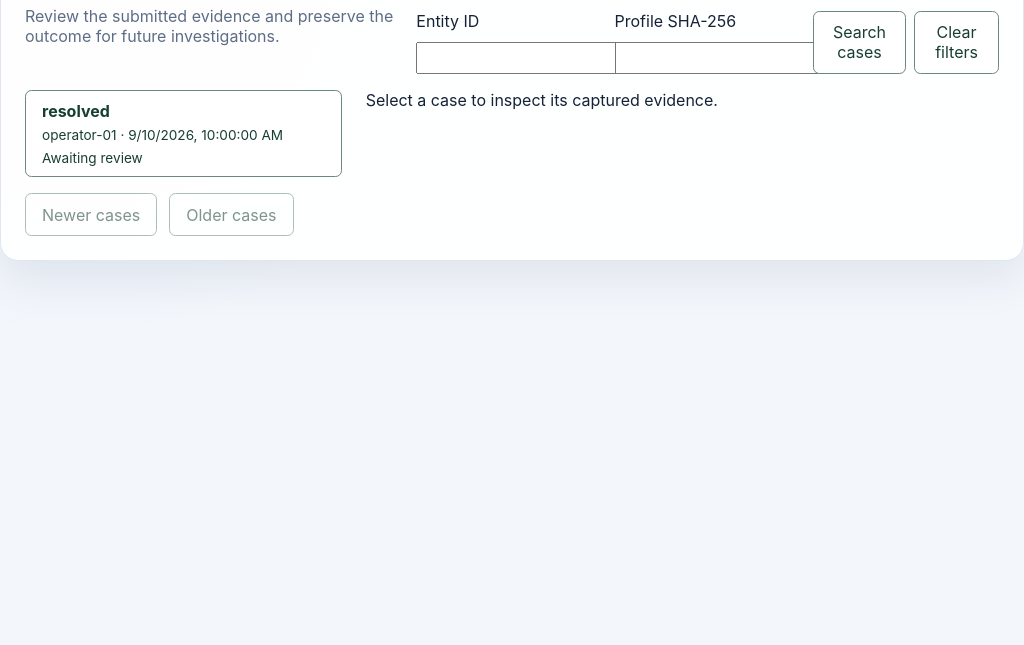
Test: lets an independent reviewer record a decision against the selected snapshot
This screenshot has width=1024, height=645.
Click the button "resolved" at (183, 133), box [25,90,342,177]
(page scrolled)
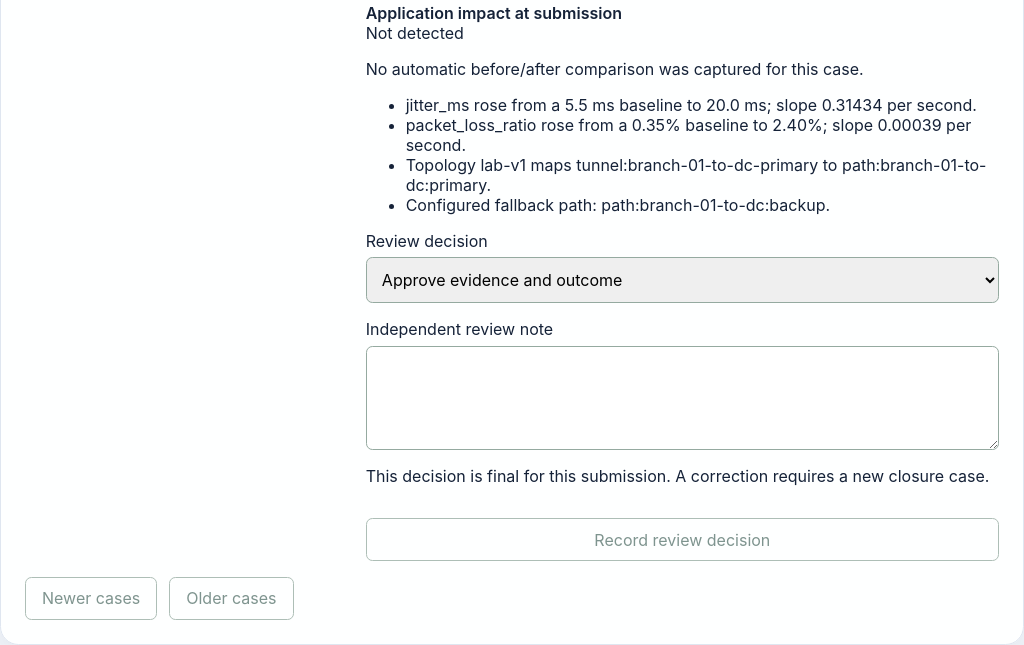
Type "Recovery evidence checked." into the text box labelled "Independent review note" at (682, 398), box [366,346,999,450]
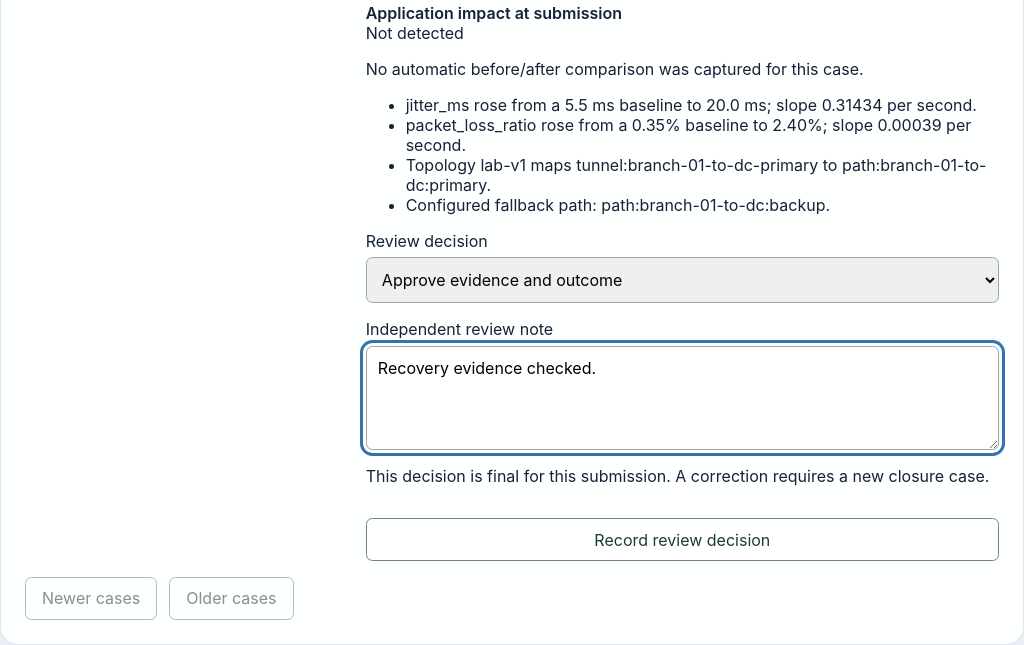
Click the button "Record review decision" at (682, 540), box [366,518,999,561]
(page scrolled)
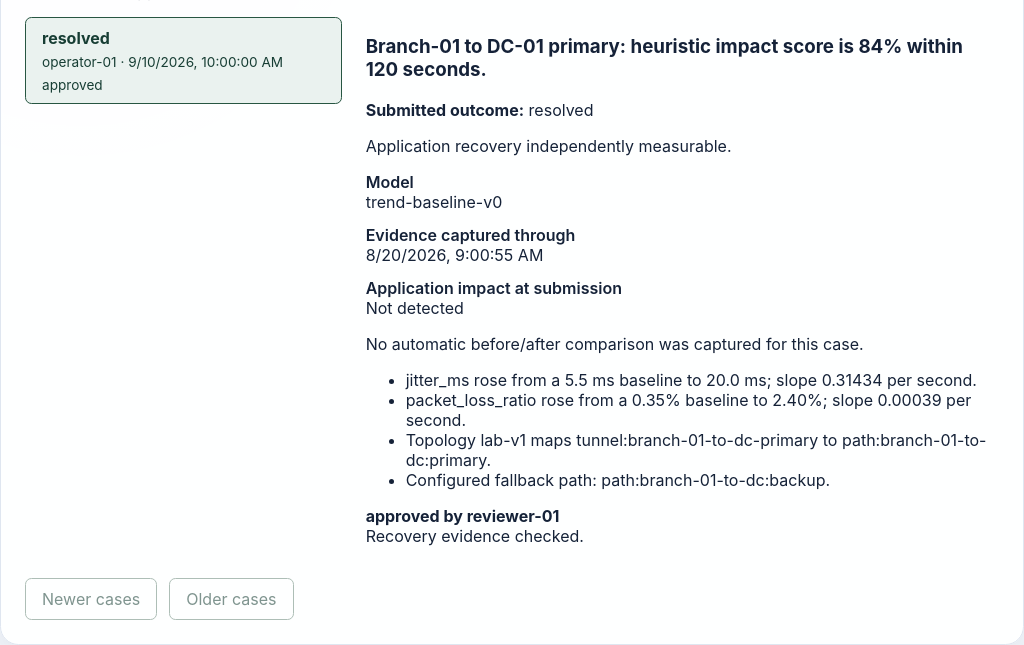
Now the text "approved by reviewer-01" is shown, box [366,506,559,526]
Now the button "Record review decision" is gone
